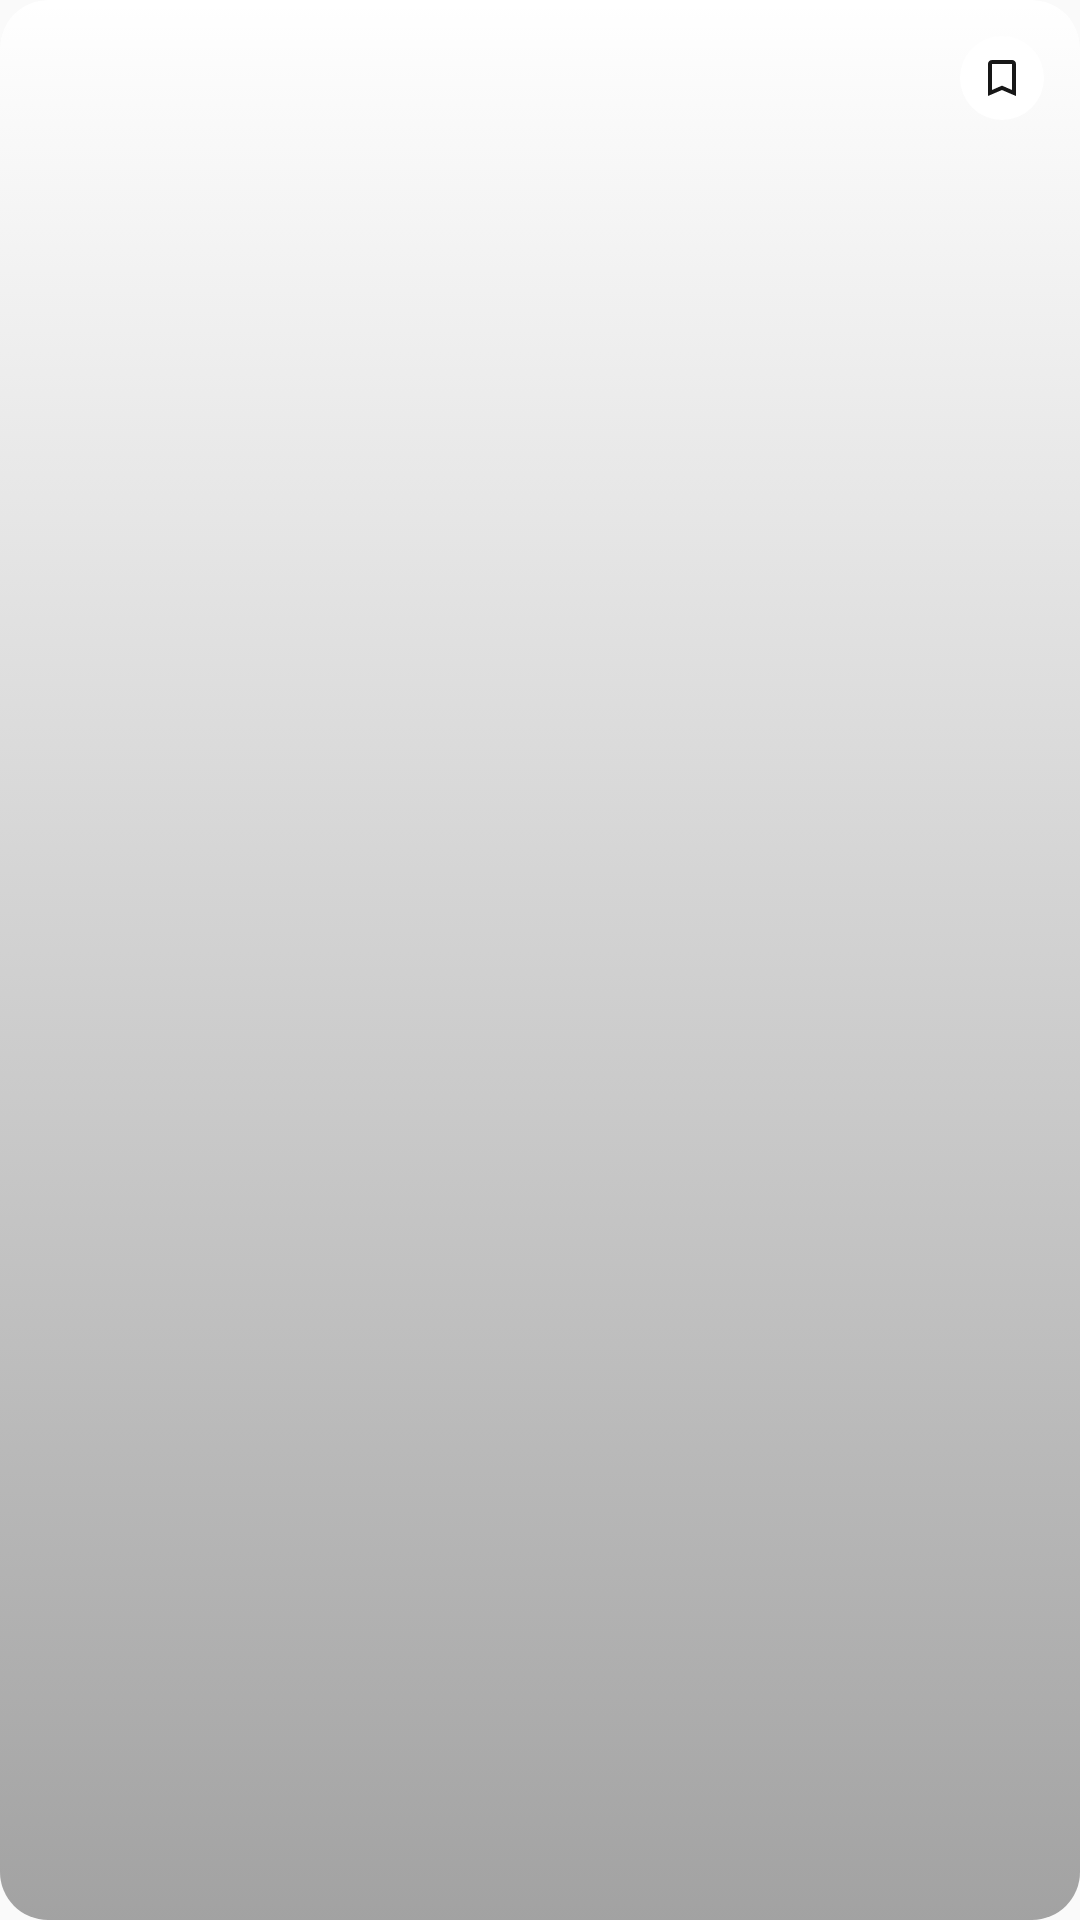

Where to tap for icons on this 1080*1920 app screen, as (x=x, y=y):
bookmark: (x=1002, y=78)
